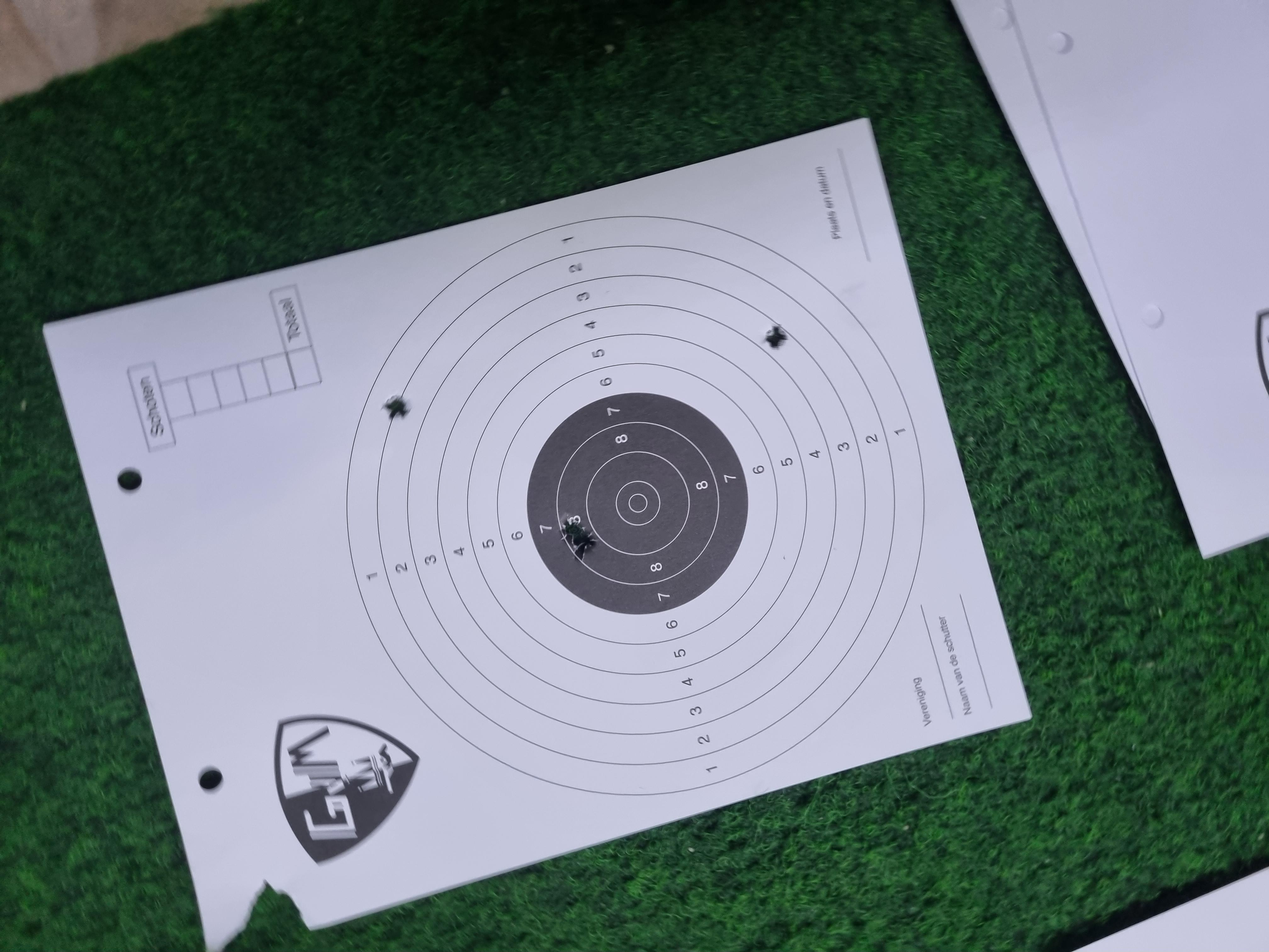hole: (802, 572, 838, 593), (711, 286, 742, 308), (529, 430, 559, 447), (547, 421, 573, 438)
